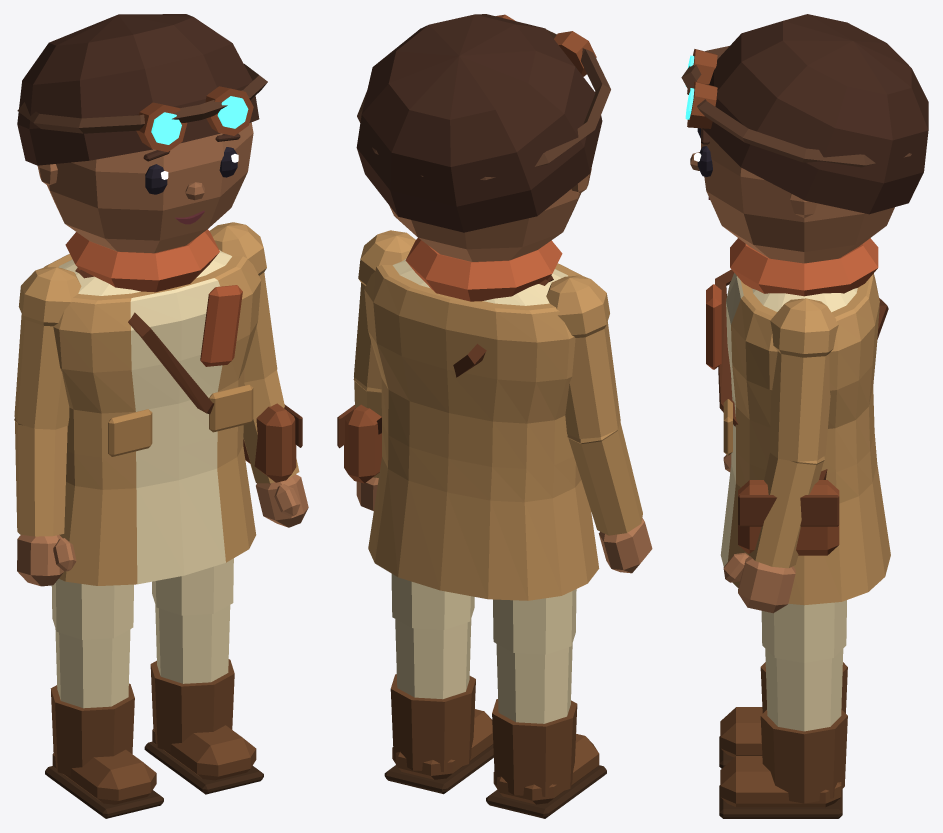
File: dun-k1.glb
3 renders of one model, left to right at view 1: azimuth 30°, elevation 25°; view 2: azimuth 150°, elevation 25°; view 3: azimuth 270°, elevation 25°, orthographic.
Parts seen in each view (by area): view 1: mantel, haare, kopf, arm_r, schuh_l, schuh_r, bein_r, bein_l, kragen, kopfbedeckung, arm_l, accessoire_shoulderbag (+5 smaller); view 2: mantel, haare, arm_r, bein_r, schuh_r, schuh_l, bein_l, kragen, kopf, arm_l, accessoire_shoulderbag, kopfbedeckung (+2 smaller); view 3: haare, mantel, arm_l, kopf, schuh_l, bein_l, kragen, accessoire_shoulderbag, kopfbedeckung, hand_l, schuh_r, torso (+2 smaller).
Part boxes in pixels (x1=…): mantel: x1=43, y1=254, x2=261, y2=585; haare: x1=17, y1=14, x2=259, y2=165; kopf: x1=37, y1=122, x2=253, y2=253; arm_r: x1=14, y1=267, x2=81, y2=536; schuh_l: x1=144, y1=659, x2=263, y2=794; schuh_r: x1=45, y1=683, x2=163, y2=818; bein_r: x1=51, y1=579, x2=133, y2=708; bein_l: x1=152, y1=558, x2=233, y2=683; kragen: x1=65, y1=229, x2=242, y2=366; kopfbedeckung: x1=17, y1=64, x2=267, y2=152; arm_l: x1=209, y1=222, x2=299, y2=483; accessoire_shoulderbag: x1=75, y1=268, x2=302, y2=482; mantel: x1=364, y1=263, x2=599, y2=600; haare: x1=356, y1=14, x2=602, y2=232; arm_r: x1=546, y1=275, x2=642, y2=535; bein_r: x1=493, y1=589, x2=576, y2=723; schuh_r: x1=486, y1=699, x2=606, y2=818; schuh_l: x1=384, y1=674, x2=493, y2=794; bein_l: x1=391, y1=574, x2=474, y2=699; kragen: x1=405, y1=238, x2=562, y2=301; kopf: x1=389, y1=168, x2=591, y2=261; arm_l: x1=353, y1=230, x2=415, y2=477; accessoire_shoulderbag: x1=337, y1=275, x2=553, y2=483; kopfbedeckung: x1=357, y1=14, x2=610, y2=180; haare: x1=702, y1=14, x2=928, y2=214; mantel: x1=720, y1=273, x2=890, y2=605; arm_l: x1=748, y1=298, x2=838, y2=568; kopf: x1=701, y1=136, x2=894, y2=263; schuh_l: x1=719, y1=709, x2=847, y2=818; bein_l: x1=761, y1=600, x2=846, y2=731; kragen: x1=706, y1=238, x2=878, y2=369; accessoire_shoulderbag: x1=715, y1=269, x2=888, y2=555; kopfbedeckung: x1=681, y1=46, x2=911, y2=167; hand_l: x1=723, y1=552, x2=795, y2=613; schuh_r: x1=719, y1=662, x2=847, y2=768; torso: x1=752, y1=288, x2=857, y2=312.
Bounding box in the file's own units: 0.0109 × 0.0279 × 0.00832.
